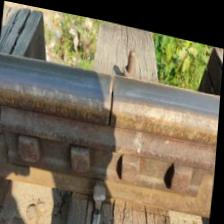person: (77, 61, 150, 134)
